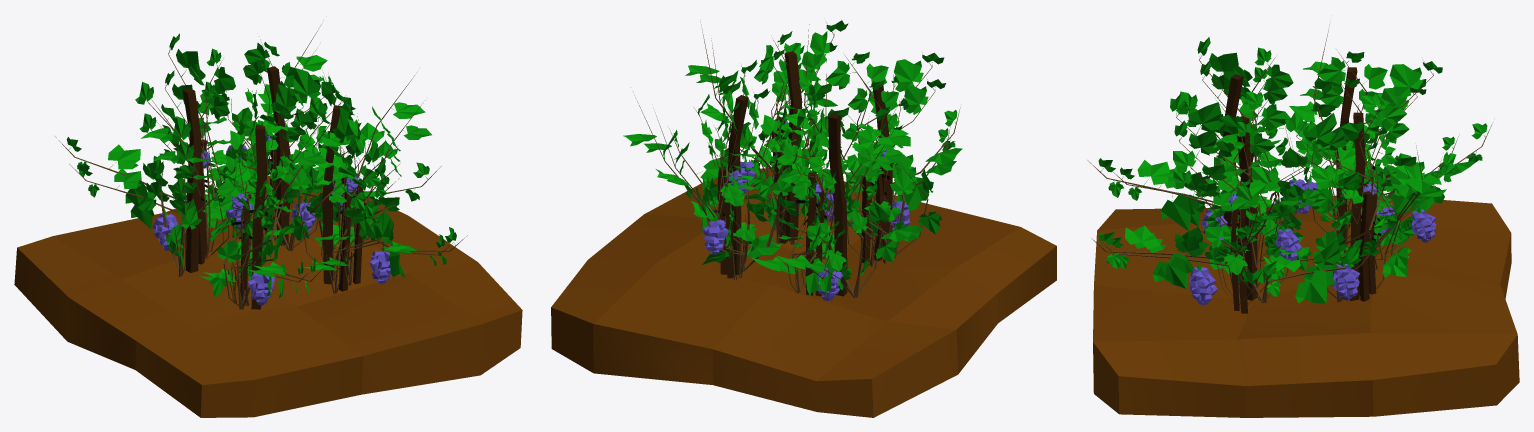
The model's file is grapes-field.glb.
The picture shows the model from 3 angles, left to right: view 1: azimuth 30°, elevation 25°; view 2: azimuth 150°, elevation 25°; view 3: azimuth 270°, elevation 25°; orthographic projection. The views are drawn at different scales.
Parts seen in each view (by area): view 1: ground6, grape_2, grape_3, grape_1; view 2: ground6, grape_2, grape_3, grape_1; view 3: ground6, grape_2, grape_3, grape_1.
Boxes of the visible parts, x1,y1,x2,y2 form: ground6: [14, 175, 522, 417]; grape_2: [55, 24, 467, 305]; grape_3: [69, 49, 452, 305]; grape_1: [137, 66, 399, 309]; ground6: [551, 168, 1056, 417]; grape_2: [623, 20, 962, 296]; grape_3: [644, 38, 956, 300]; grape_1: [717, 51, 941, 297]; ground6: [1093, 195, 1519, 417]; grape_2: [1087, 24, 1492, 313]; grape_3: [1101, 54, 1458, 310]; grape_1: [1199, 67, 1416, 303].
Bounding box in the file's own units: 4.89 × 3.51 × 4.98.
